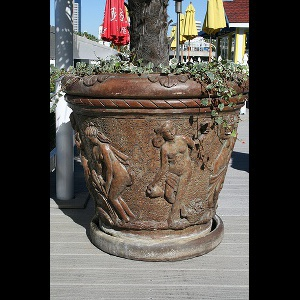flowerpot: (62, 64, 246, 263)
